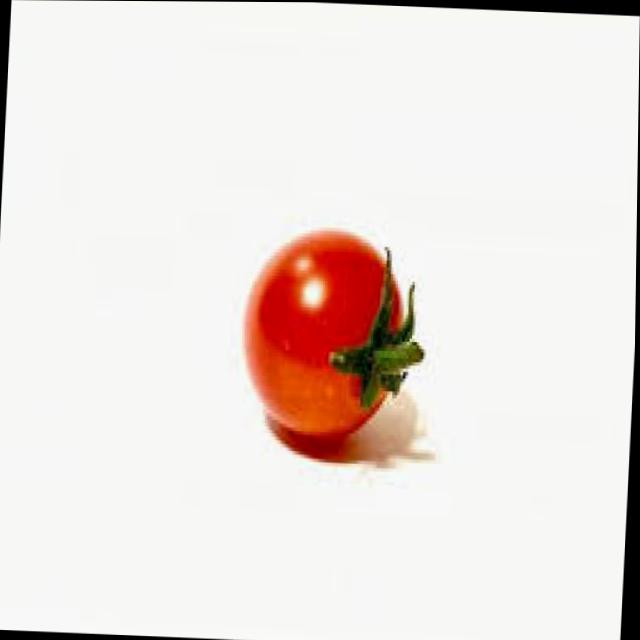tomato: (240, 226, 432, 459)
